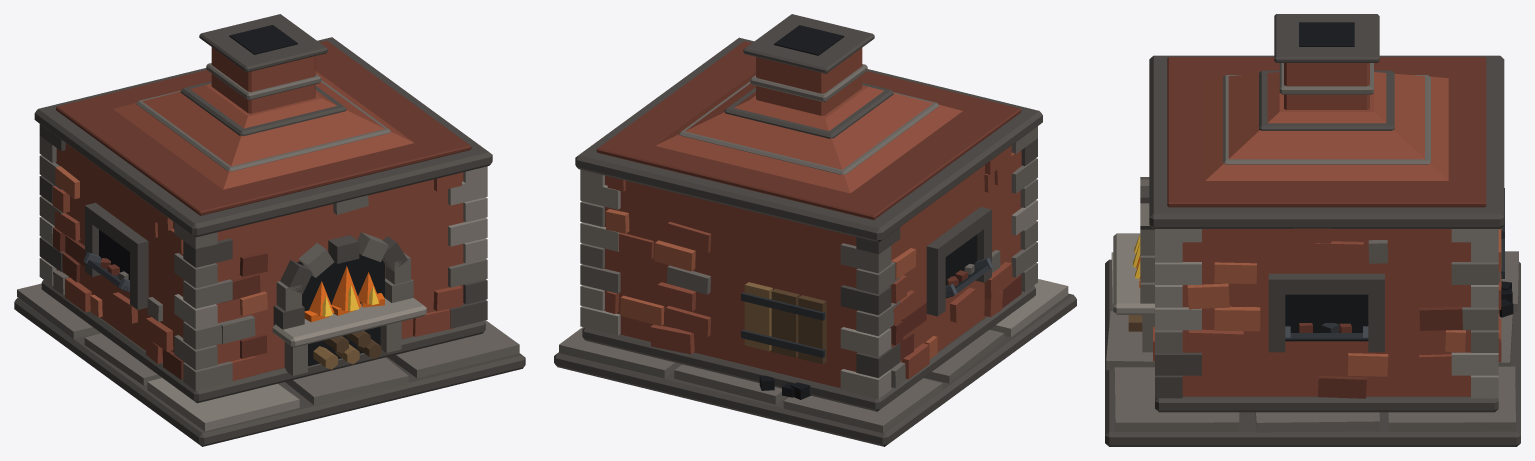
Rendered from fourneau_t1.glb.
3 views of the same model, side by side, from view 1: azimuth 30°, elevation 25°; view 2: azimuth 150°, elevation 25°; view 3: azimuth 270°, elevation 25° (orthographic). The views are drawn at different scales.
Parts seen in each view (by area): view 1: corps.002, pieces_pierre.004, dessus.002, hotte.002, corniche.002, pieces_pierre_sombre.002, dalle.004, pieces_pierre_claire.002, pieces_brique.002, soubassement.002, cheminee.002, pieces_brique_sombre.004 (+11 smaller); view 2: corps.002, dessus.002, pieces_pierre.004, hotte.002, corniche.002, pieces_brique.002, dalle.004, pieces_pierre_claire.002, pieces_pierre_sombre.002, soubassement.002, cheminee.002, cheminee_chapeau.002 (+10 smaller); view 3: corps.002, dessus.002, hotte.002, pieces_pierre.004, corniche.002, dalle.004, pieces_pierre_claire.002, pieces_pierre_sombre.002, soubassement.002, pieces_brique_claire.004, pieces_brique.002, cheminee_chapeau.002 (+9 smaller).
Part boxes in pixels (x1=…): corps.002: x1=55, y1=143, x2=464, y2=374; pieces_pierre.004: x1=17, y1=136, x2=519, y2=405; dessus.002: x1=56, y1=40, x2=471, y2=215; hotte.002: x1=113, y1=71, x2=413, y2=189; corniche.002: x1=34, y1=37, x2=492, y2=237; pieces_pierre_sombre.002: x1=39, y1=124, x2=487, y2=329; dalle.004: x1=14, y1=298, x2=525, y2=446; pieces_pierre_claire.002: x1=39, y1=166, x2=487, y2=431; pieces_brique.002: x1=52, y1=172, x2=462, y2=380; soubassement.002: x1=41, y1=280, x2=485, y2=403; cheminee.002: x1=211, y1=47, x2=315, y2=113; pieces_brique_sombre.004: x1=52, y1=227, x2=267, y2=379; corps.002: x1=603, y1=145, x2=1021, y2=388; dessus.002: x1=596, y1=41, x2=1021, y2=220; pieces_pierre.004: x1=559, y1=126, x2=1037, y2=433; hotte.002: x1=655, y1=72, x2=962, y2=193; corniche.002: x1=575, y1=37, x2=1042, y2=242; pieces_brique.002: x1=605, y1=146, x2=1021, y2=379; dalle.004: x1=554, y1=293, x2=1076, y2=446; pieces_pierre_claire.002: x1=580, y1=169, x2=1068, y2=398; pieces_pierre_sombre.002: x1=840, y1=138, x2=1037, y2=378; soubassement.002: x1=582, y1=285, x2=1035, y2=411; cheminee.002: x1=756, y1=48, x2=862, y2=115; cheminee_chapeau.002: x1=743, y1=14, x2=874, y2=73; corps.002: x1=1182, y1=229, x2=1470, y2=396; dessus.002: x1=1167, y1=57, x2=1486, y2=207; hotte.002: x1=1205, y1=72, x2=1448, y2=180; pieces_pierre.004: x1=1106, y1=179, x2=1518, y2=432; corniche.002: x1=1149, y1=55, x2=1504, y2=228; dalle.004: x1=1105, y1=259, x2=1520, y2=446; pieces_pierre_claire.002: x1=1111, y1=229, x2=1498, y2=398; pieces_pierre_sombre.002: x1=1140, y1=177, x2=1384, y2=398; soubassement.002: x1=1155, y1=396, x2=1498, y2=412; pieces_brique_claire.004: x1=1187, y1=229, x2=1501, y2=376; pieces_brique.002: x1=1153, y1=228, x2=1501, y2=376; cheminee_chapeau.002: x1=1274, y1=14, x2=1379, y2=62.
Bounding box in the file's own units: 1.5 × 1.3 × 1.5.
